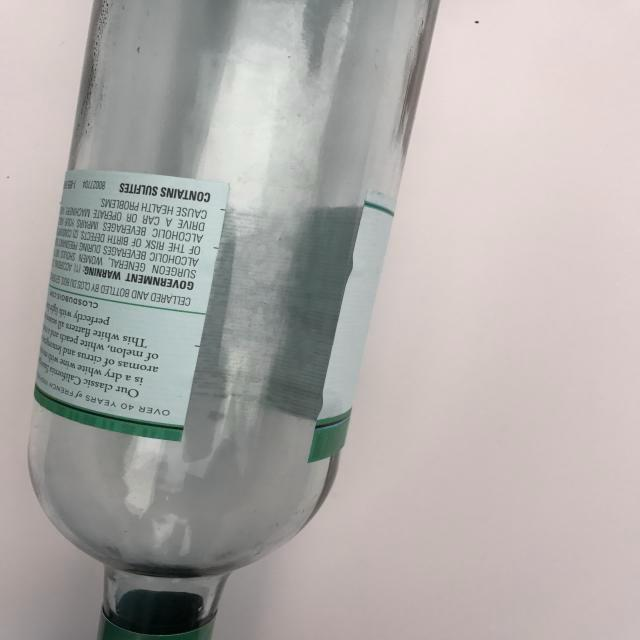glass: (20, 0, 463, 640)
